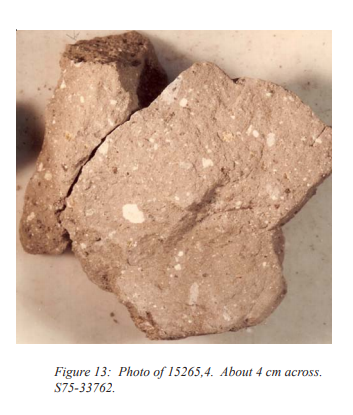Breccia: (74, 38, 310, 337), (38, 55, 257, 309)
